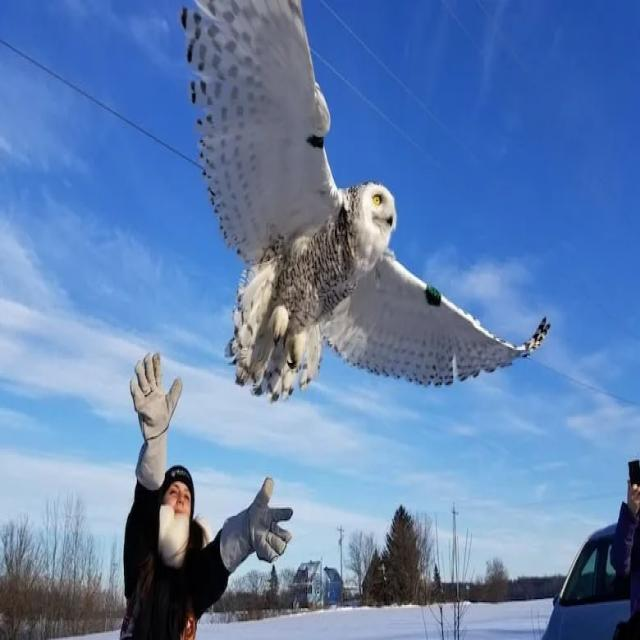snowy owl: (188, 19, 541, 413)
